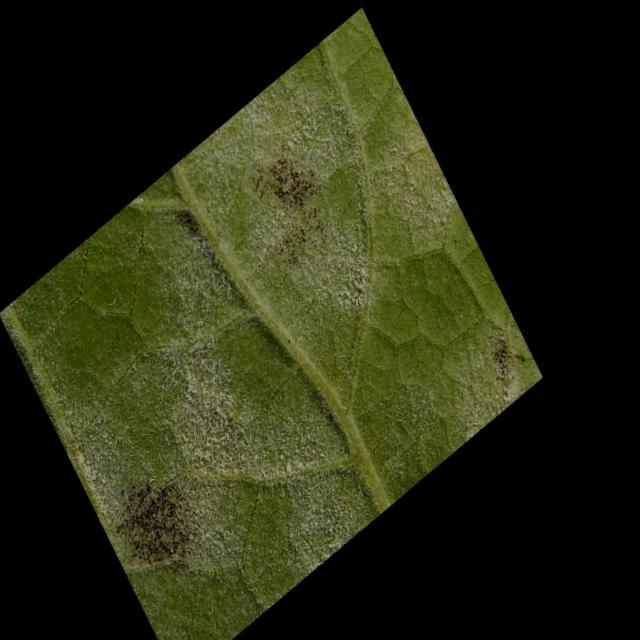Powdery_Mildew: (0, 1, 542, 640)
